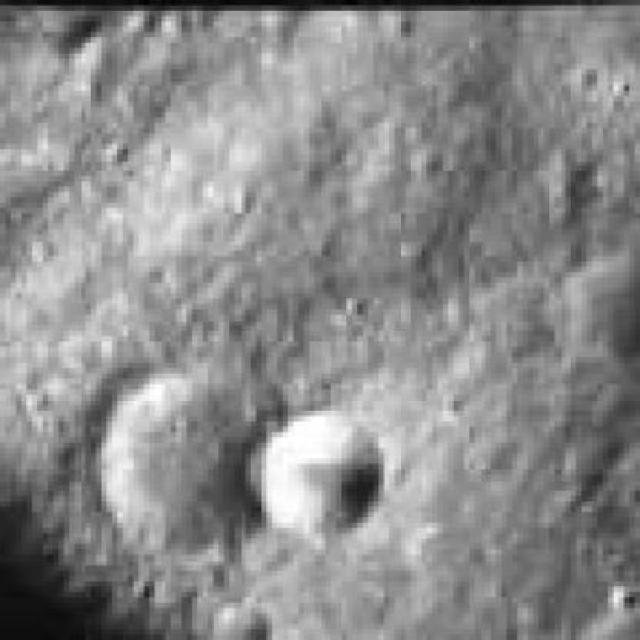crater: (104, 371, 274, 566), (252, 408, 386, 526)
